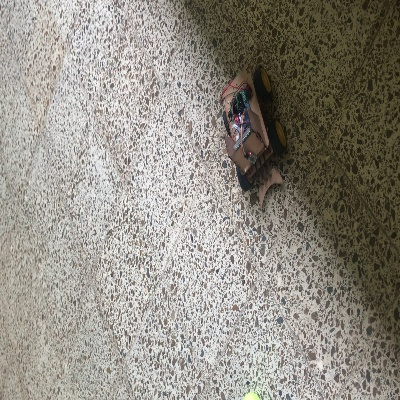Ball: (242, 392, 260, 399)
Robot: (219, 62, 287, 206)
